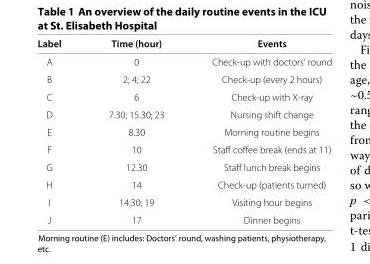table: (36, 37, 331, 225)
table column: (187, 37, 331, 225), (84, 37, 187, 225), (36, 37, 84, 225)
table column header: (36, 37, 331, 52)
table row: (36, 52, 331, 70), (36, 87, 331, 105), (36, 122, 331, 140), (36, 140, 331, 158), (36, 175, 331, 193), (36, 70, 331, 87), (36, 105, 331, 122), (36, 158, 331, 175), (36, 193, 331, 210), (36, 37, 331, 52), (36, 210, 331, 225)
